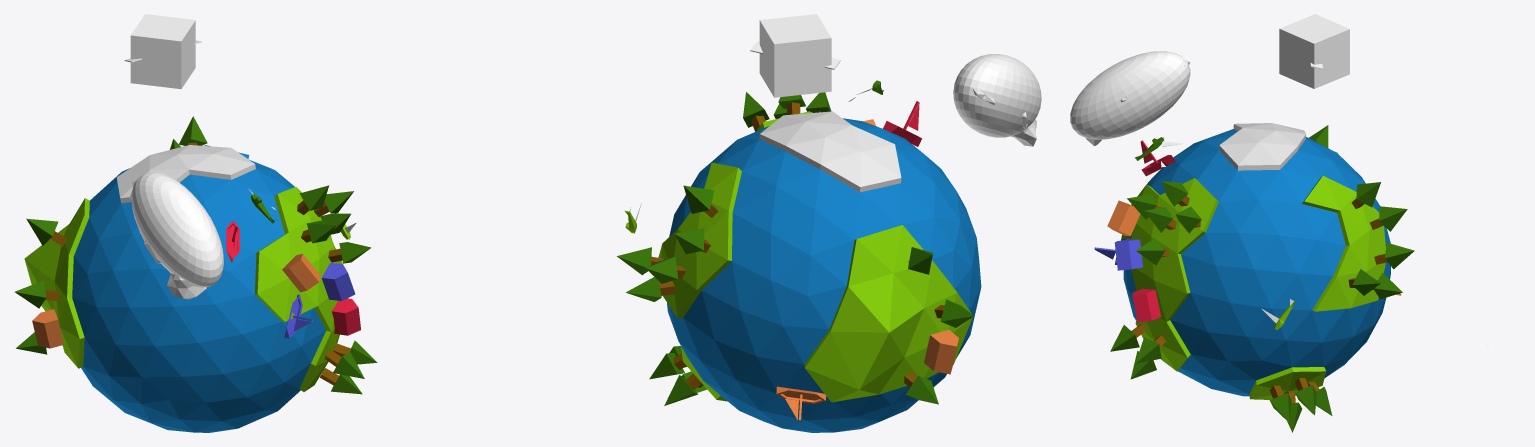
The model's file is lowpoly_earth.glb.
3 renders of one model, left to right at view 1: azimuth 30°, elevation 25°; view 2: azimuth 150°, elevation 25°; view 3: azimuth 270°, elevation 25°, orthographic. The views are drawn at different scales.
Parts seen in each view (by area): view 1: Earth, Cloud_sphere, Satelite_cube, cloud; view 2: Earth, Cloud_sphere, Satelite_cube; view 3: Earth, Cloud_sphere, Satelite_cube.
Boxes of the visible parts, x1,y1,x2,y2 form: Earth: (14,116,377,432); Cloud_sphere: (131,172,223,287); Satelite_cube: (130,14,195,89); cloud: (129,180,210,299); Earth: (617,80,981,432); Cloud_sphere: (953,54,1041,137); Satelite_cube: (759,14,831,97); Earth: (1094,123,1414,432); Cloud_sphere: (1070,51,1190,139); Satelite_cube: (1279,14,1349,88).
Bounding box in the file's own units: 8.83 × 7.96 × 9.24.
